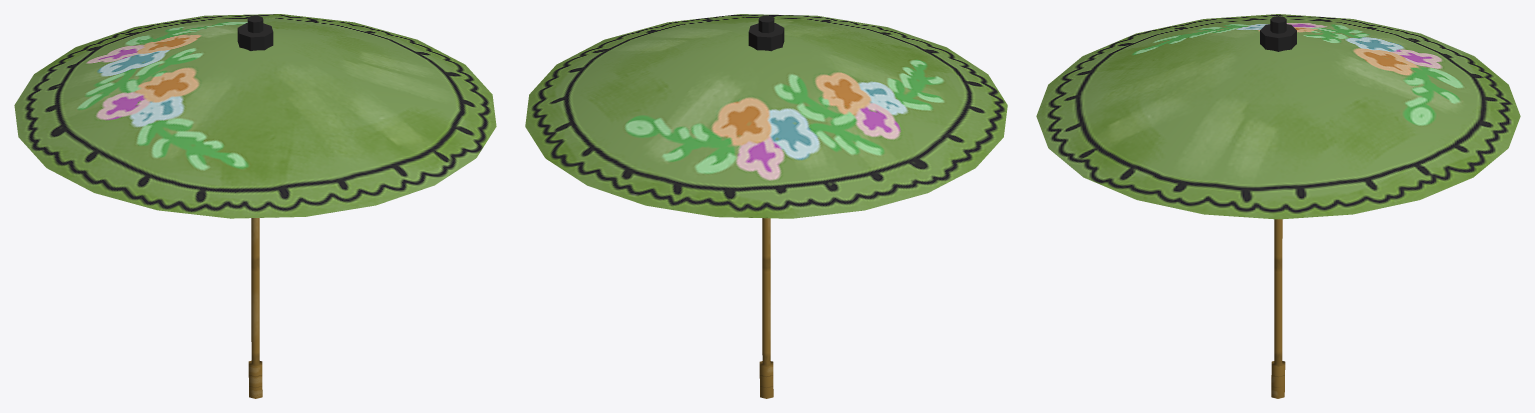
Rendered from umbrella_C.fbx.
3 views of the same model, side by side, from view 1: azimuth 30°, elevation 25°; view 2: azimuth 150°, elevation 25°; view 3: azimuth 270°, elevation 25° (orthographic).
Parts seen in each view (by area): view 1: umbrella; view 2: umbrella; view 3: umbrella.
Part boxes in pixels (x1,y1,x2,y2): umbrella: (14,14,496,398); umbrella: (525,14,1007,398); umbrella: (1036,14,1520,398).
Size of the model in its own units: 2.48 by 2.13 by 2.48.
Materials: 1 (1 with a texture image).
